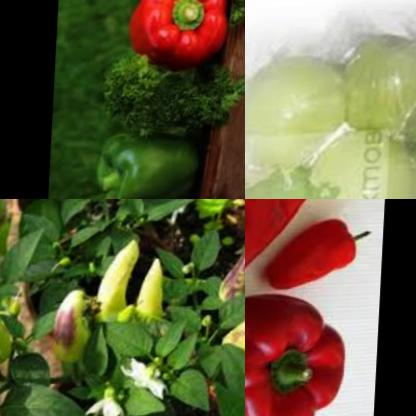bell pepper: (245, 199, 349, 363), (245, 294, 359, 416), (266, 218, 376, 303), (122, 0, 235, 77), (94, 128, 209, 199)
hot pepper: (96, 236, 153, 327), (53, 283, 98, 366), (212, 278, 245, 368), (137, 257, 171, 328), (0, 275, 22, 374), (216, 232, 245, 307), (113, 295, 140, 328)
onion: (245, 41, 416, 199)
